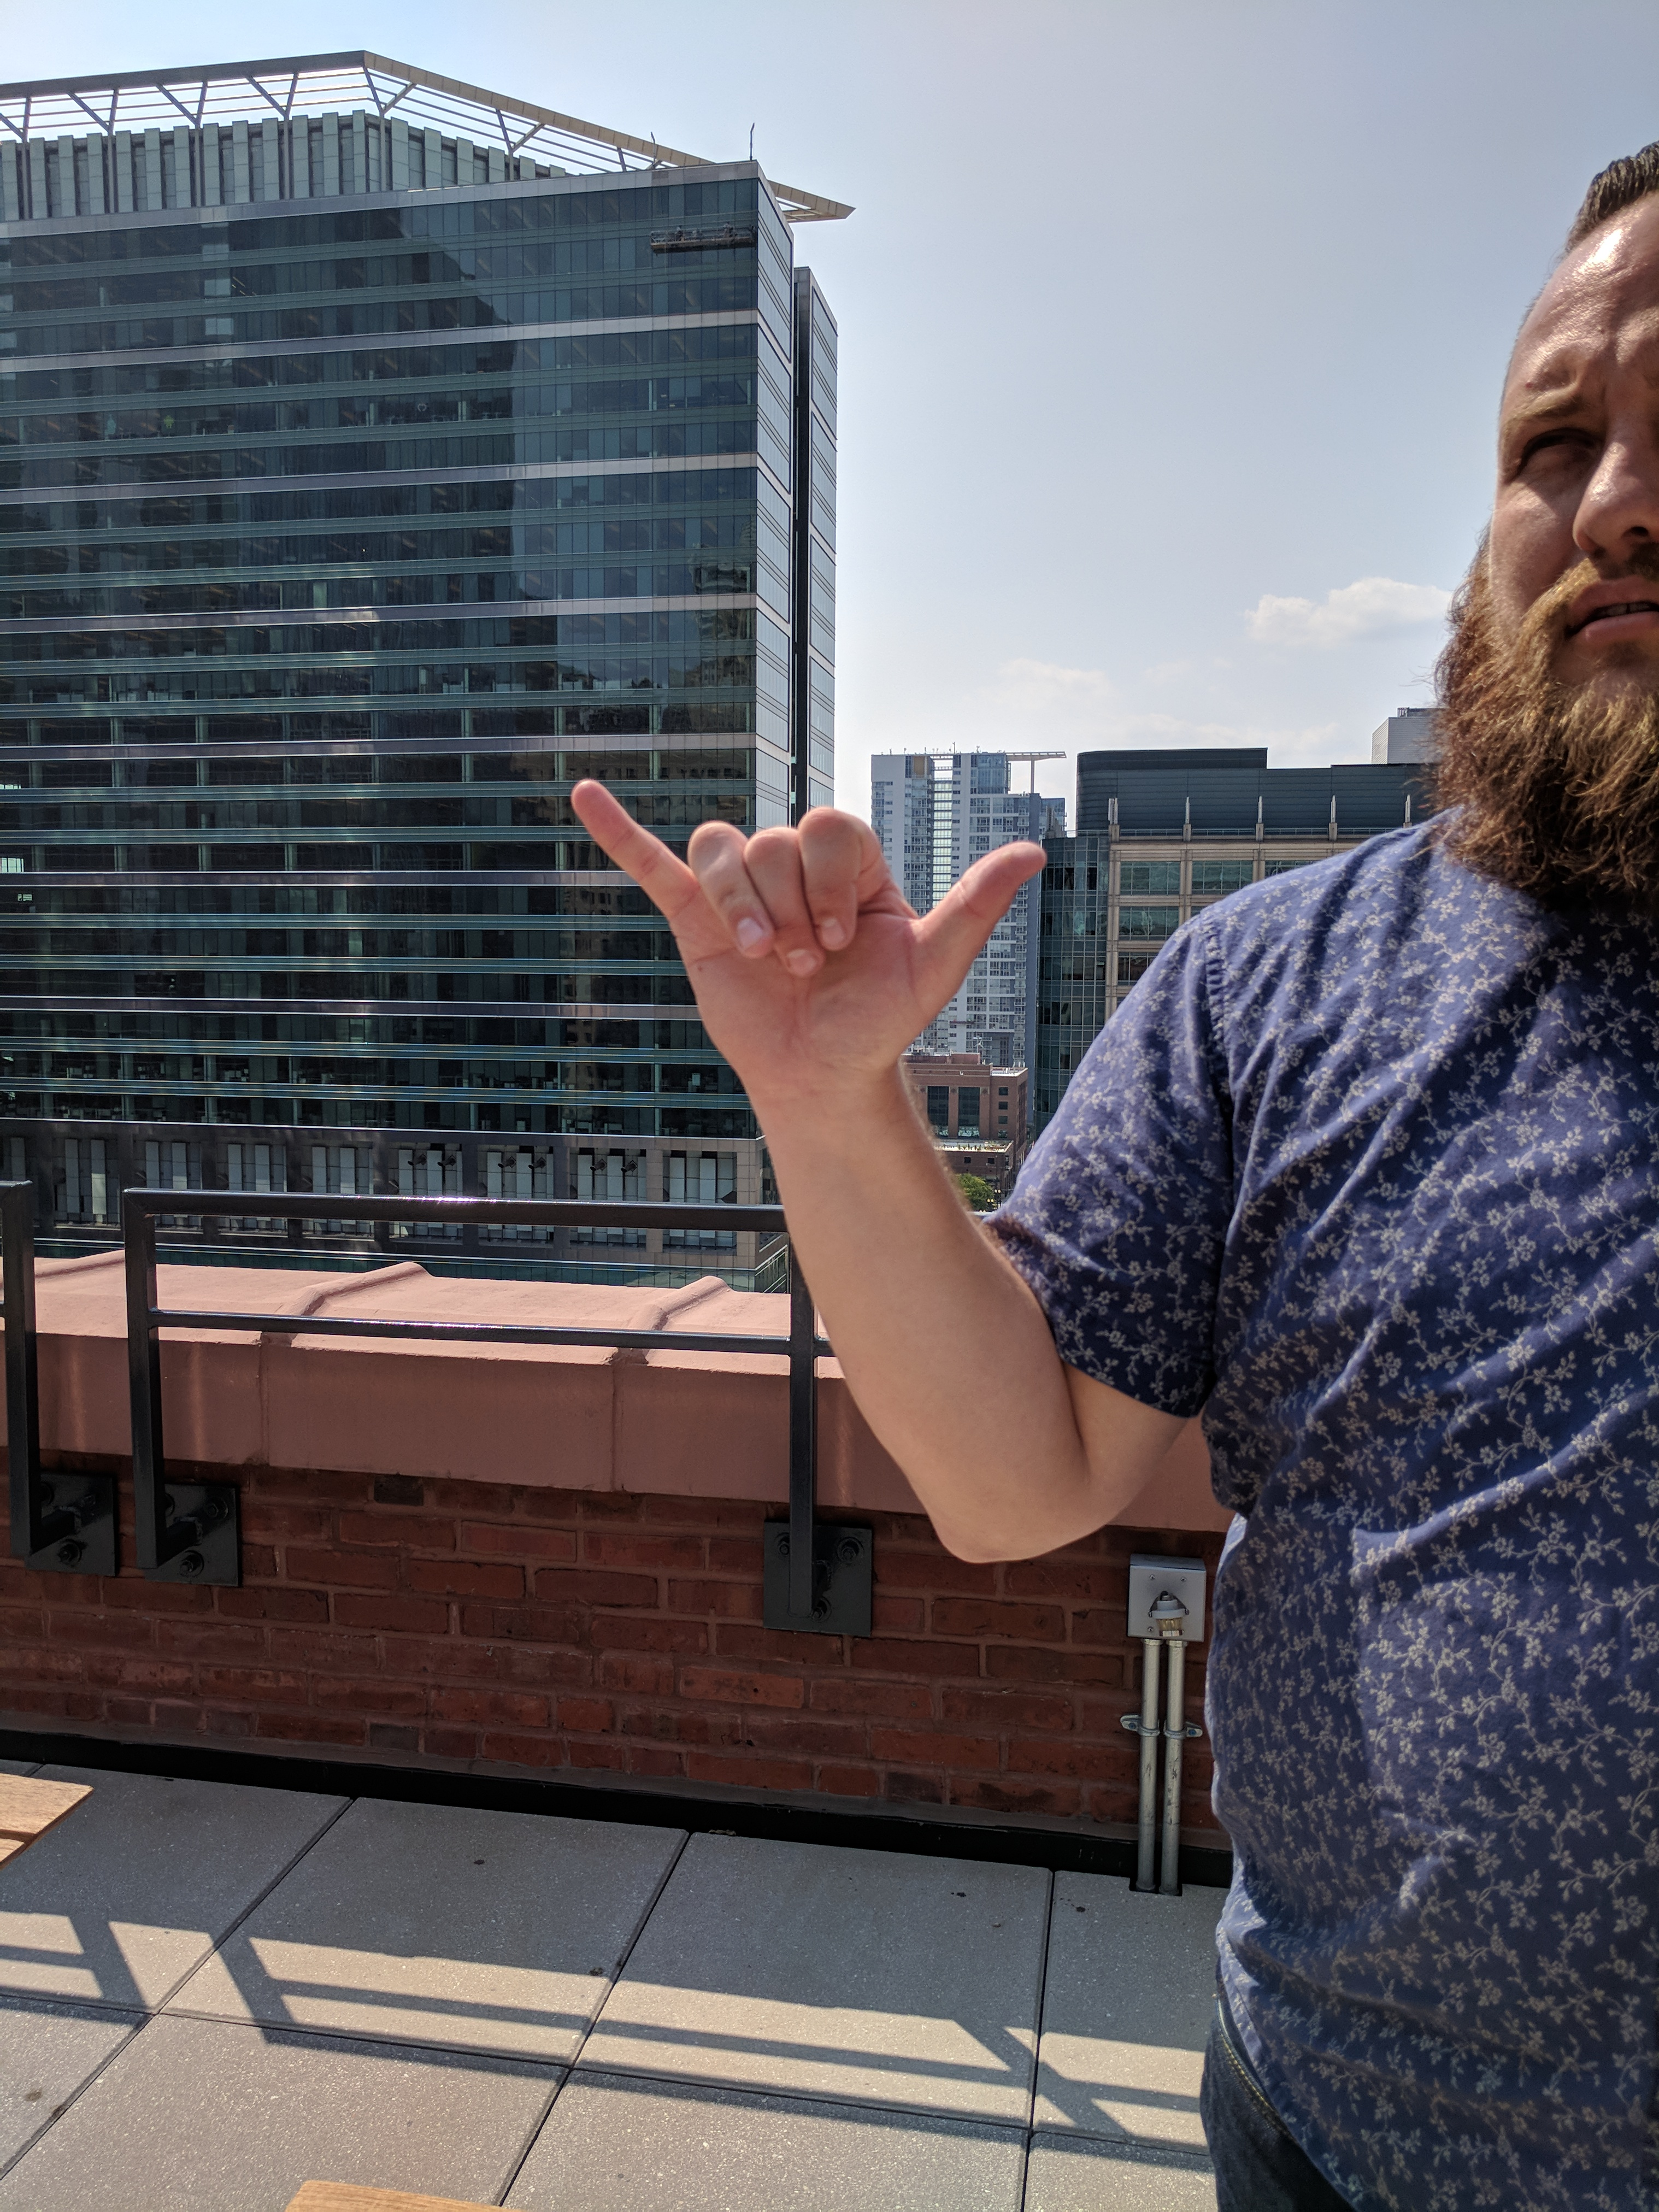y: (554, 763, 1053, 1118)
